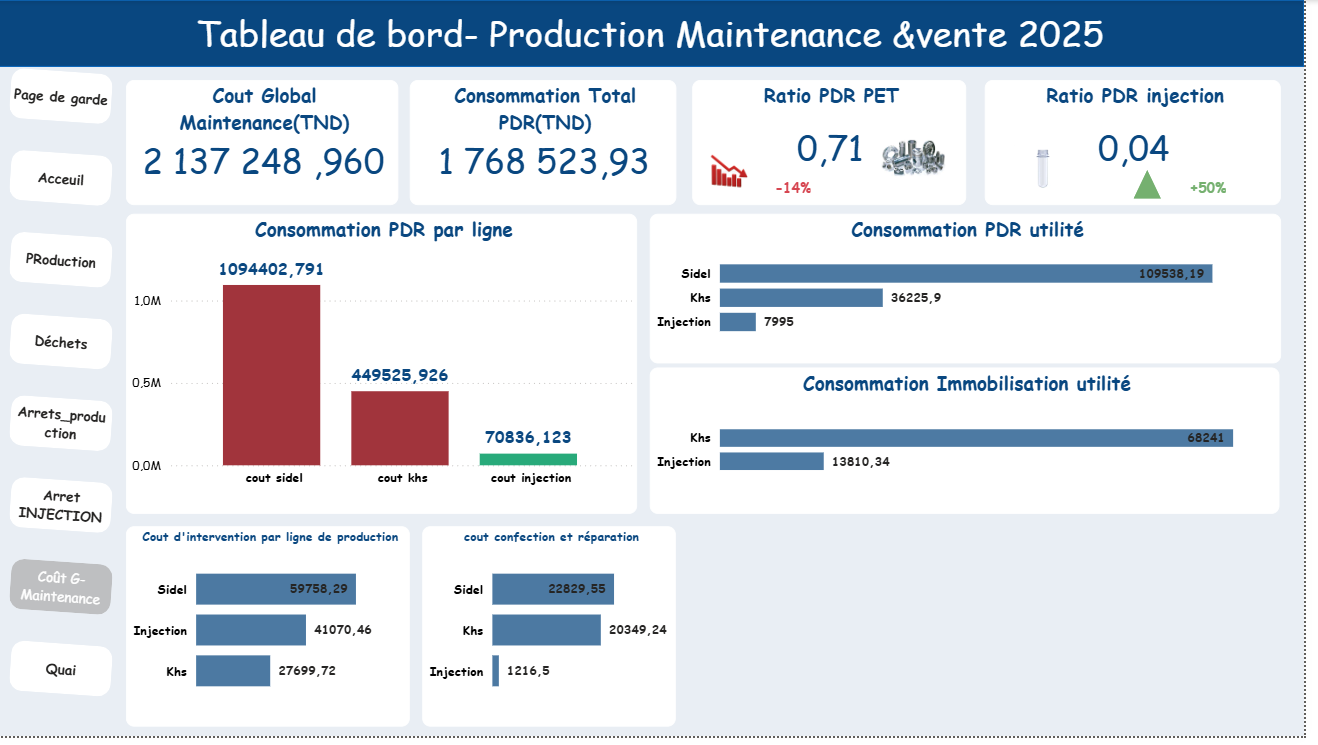

What the dashboard file says about the page in this screenshot:
{"tool":"powerbi","page":{"name":"Coût G-Maintenance","canvas":[1280,720],"ordinal":6},"visuals":[{"type":"pageNavigator","box":[0,65.5,127.4,622.6],"z":0},{"type":"shape","box":[0,0,1279.8,65.5],"z":1000},{"type":"card","title":"Cout Global Maintenance(TND)","fields":{"Values":["Min(Table.cout global maintenance )"]},"box":[127.2,78.3,266.6,122.3],"z":2000},{"type":"card","title":"Consommation Total PDR(TND)","fields":{"Values":["Sum(CONS PDR.CONS PDR)"]},"box":[404.8,78.3,260.5,122.3],"z":3000},{"type":"card","title":"Ratio PDR PET","fields":{"Values":["Sum(Ratio PDR pet.Ratio PDR pet )"]},"box":[681.1,78.3,267.8,122.3],"z":4000},{"type":"image","box":[690.9,139.4,51.4,55],"z":5000},{"type":"shape","box":[752,167.5,55,30.6],"z":6000},{"type":"card","title":"Ratio PDR injection ","fields":{"Values":["Sum(Ratio PDR INJEC.Ratio PDR injec)"]},"box":[967.3,78.3,289.8,122.3],"z":7000},{"type":"shape","box":[1112.8,166.3,26.9,28.1],"z":8000},{"type":"shape","box":[1154.4,167.5,62.4,30.6],"z":9000},{"type":"clusteredColumnChart","title":"Consommation PDR par ligne ","fields":{"Category":["S_K_25 - Cout _maintenance.ligne de production"],"Y":["S_K_25 - Cout _maintenance.Cout_Total_Maintenance"]},"box":[127.2,209.1,500.1,293.5],"z":10000},{"type":"clusteredBarChart","title":"Consommation PDR utilité ","fields":{"Category":["Consommation PDR utilité.ligne de production "],"Y":["Sum(Consommation PDR utilité.cout )"]},"box":[639.5,209.1,617.5,146.7],"z":11000},{"type":"clusteredBarChart","title":"Consommation Immobilisation utilité","fields":{"Category":["Cout PDR immobilisation.LIGNE DE Production "],"Y":["Sum(Cout PDR immobilisation.Cout PDR immobilisation)"]},"box":[639.5,359.5,616.3,143.1],"z":12000},{"type":"clusteredBarChart","title":" Cout d''intervention  par ligne de production ","fields":{"Category":["Table (4).ligne de production "],"Y":["Sum(Table (4).Cout intervention )"]},"box":[127.2,514.8,277.6,195.7],"z":13000},{"type":"clusteredBarChart","title":"cout confection et réparation  ","fields":{"Category":["cout confection et réparation.Ligne de prodcution "],"Y":["Sum(cout confection et réparation.cout confection et réparation )"]},"box":[417,514.8,248.2,195.7],"z":14000},{"type":"image","box":[860.4,131.7,72.7,48],"z":15000},{"type":"image","box":[990.7,137.2,67.2,56.3],"z":16000}]}

Visuals, with their boxes in screenshot pixels (x1, y1, x2, y2), scaled from the page's 1280x720 canvas onto the 1318x745 screenshot:
pageNavigator: 0:68:131:712
shape: 0:0:1317:68
"Cout Global Maintenance(TND)" card: 131:81:405:208
"Consommation Total PDR(TND)" card: 417:81:685:208
"Ratio PDR PET" card: 701:81:977:208
image: 711:144:764:201
shape: 774:173:831:205
"Ratio PDR injection " card: 996:81:1294:208
shape: 1146:172:1174:201
shape: 1189:173:1253:205
"Consommation PDR par ligne " clusteredColumnChart: 131:216:646:520
"Consommation PDR utilité " clusteredBarChart: 658:216:1294:368
"Consommation Immobilisation utilité" clusteredBarChart: 658:372:1293:520
" Cout d''intervention  par ligne de production " clusteredBarChart: 131:533:417:735
"cout confection et réparation  " clusteredBarChart: 429:533:685:735
image: 886:136:961:186
image: 1020:142:1089:200
